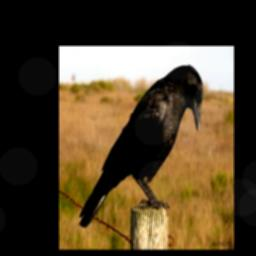Crow: (77, 64, 203, 228)
